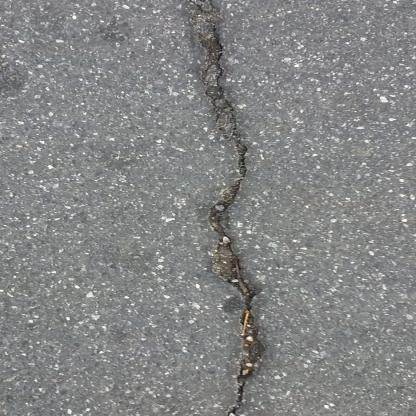Cracks: (174, 0, 272, 416)
